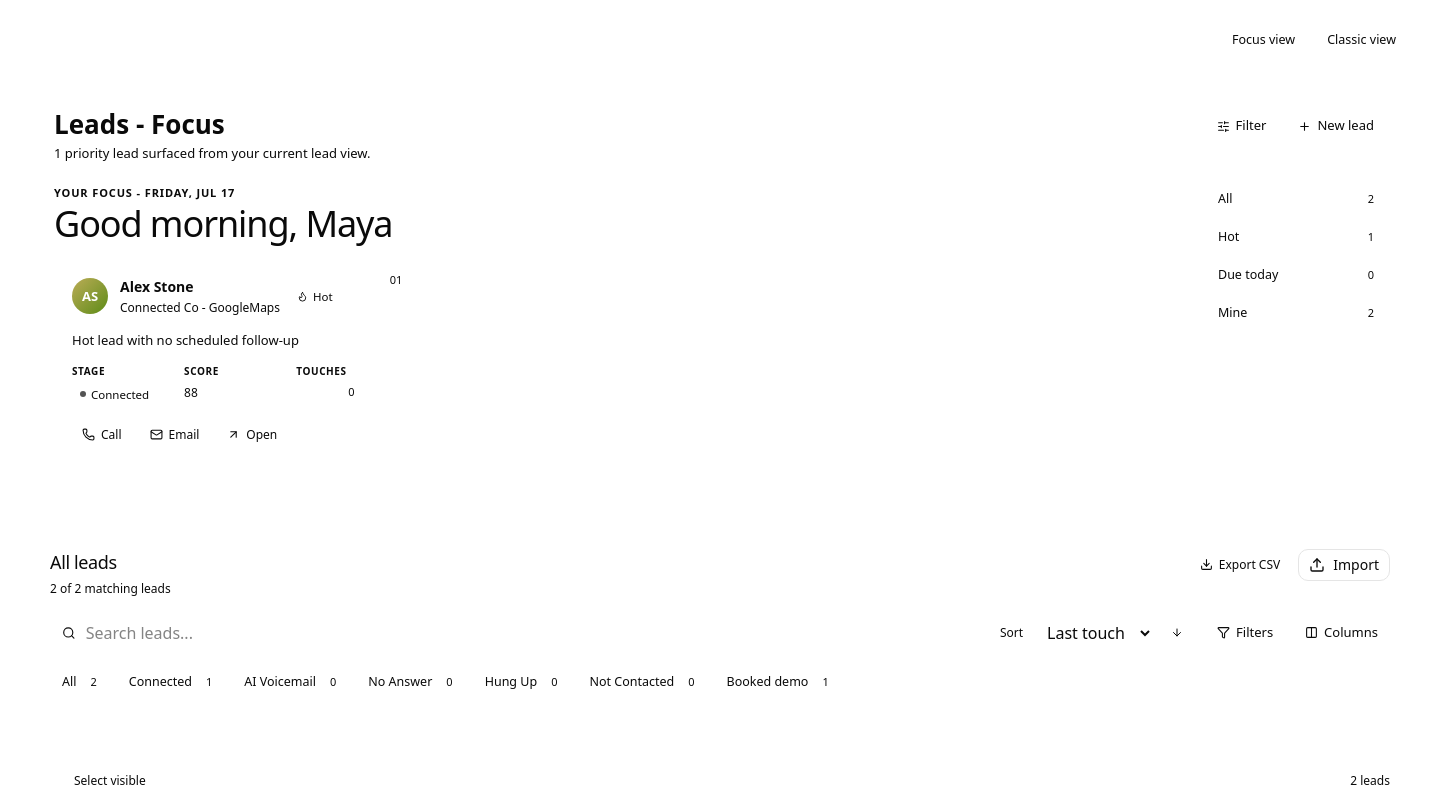
Scenario: LeadsList › keeps custom outcomes out of generic connected stage counts and filters
Click the button "Connected 1" at (171, 682), box [117,668,224,696]
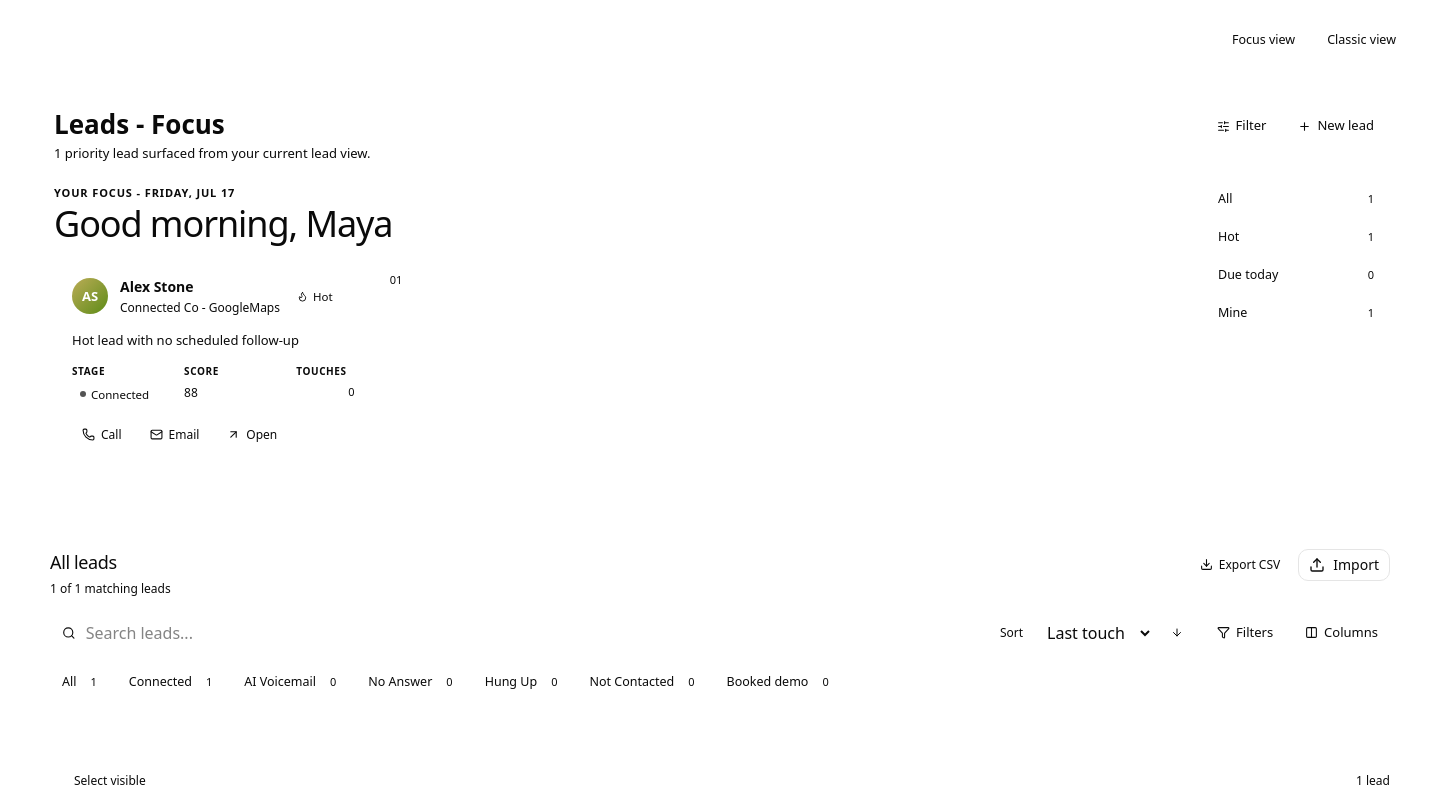
expect the button "Custom Co" is not shown: met
Click the button "Connected 1" at (171, 682), box [117,668,224,696]
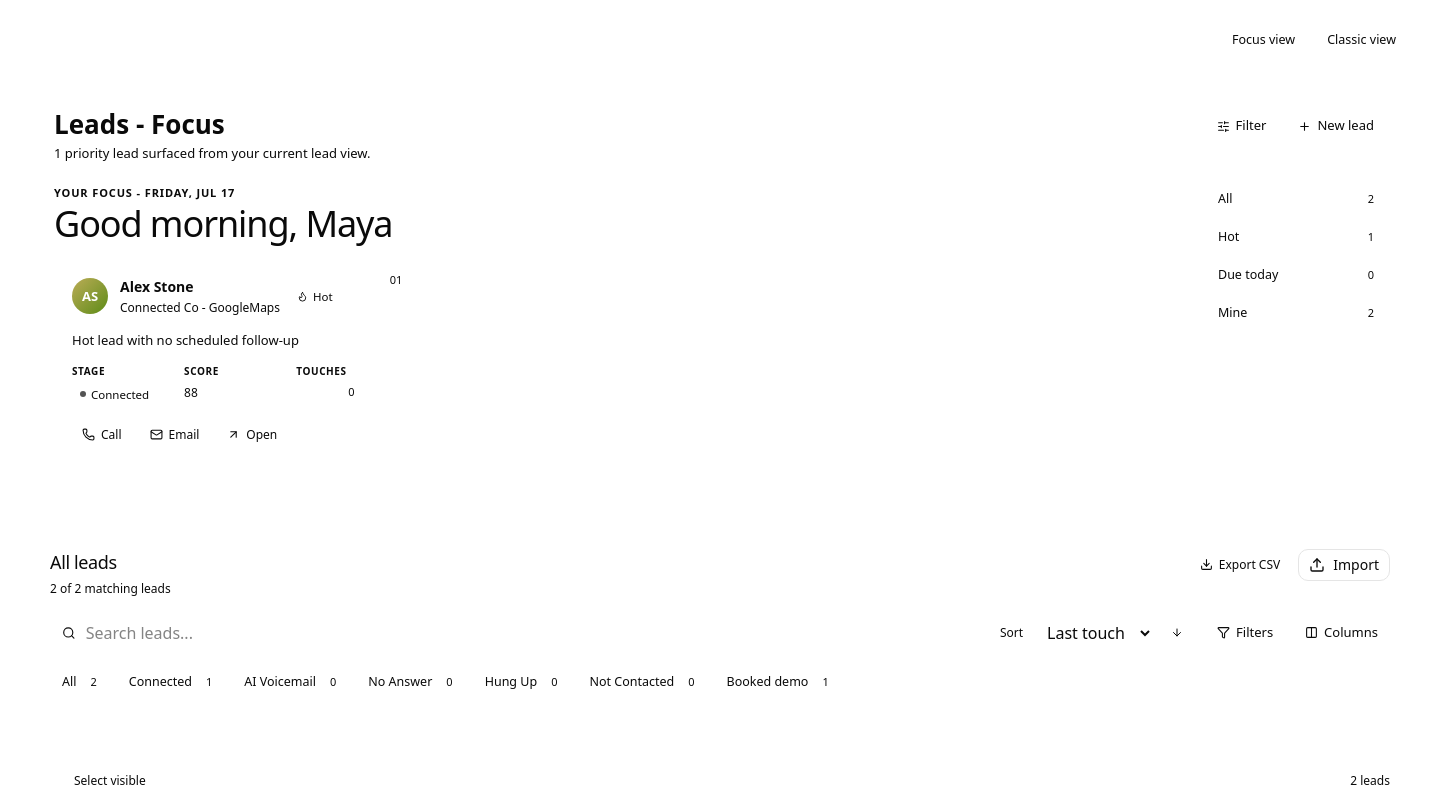
Click the button "Booked demo 1" at (778, 682), box [714,668,841,696]
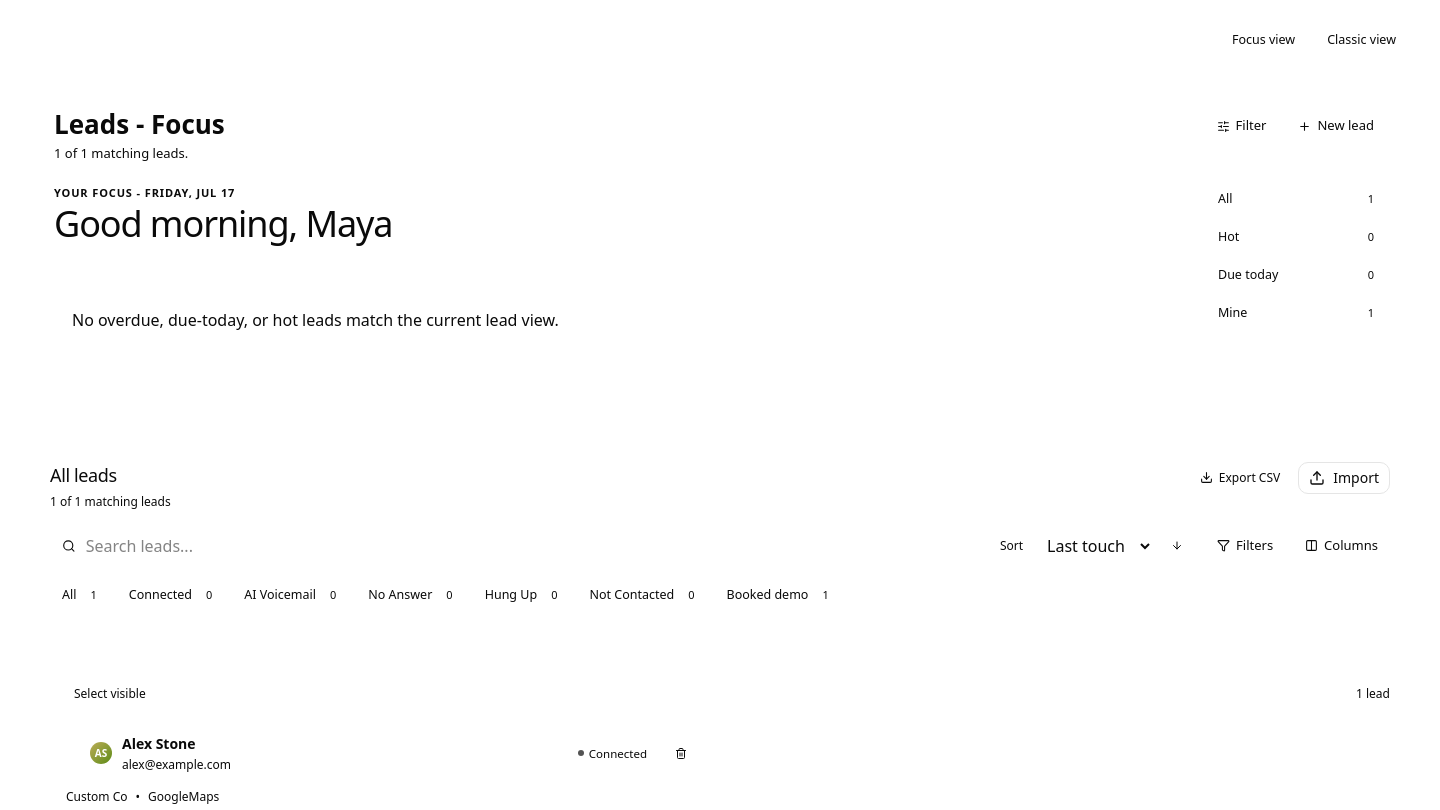
expect the text "Custom Co" is shown: met, box [66,788,128,806]
expect the button "Connected Co" is gone: met
